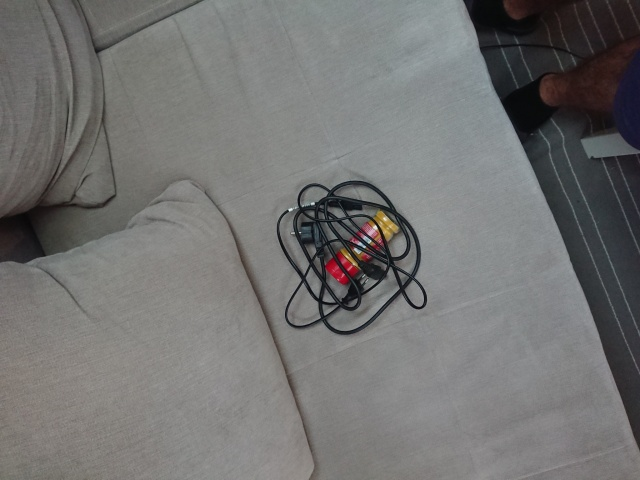Kotanyi Curry Spices Mix 70g: (323, 206, 403, 287)
